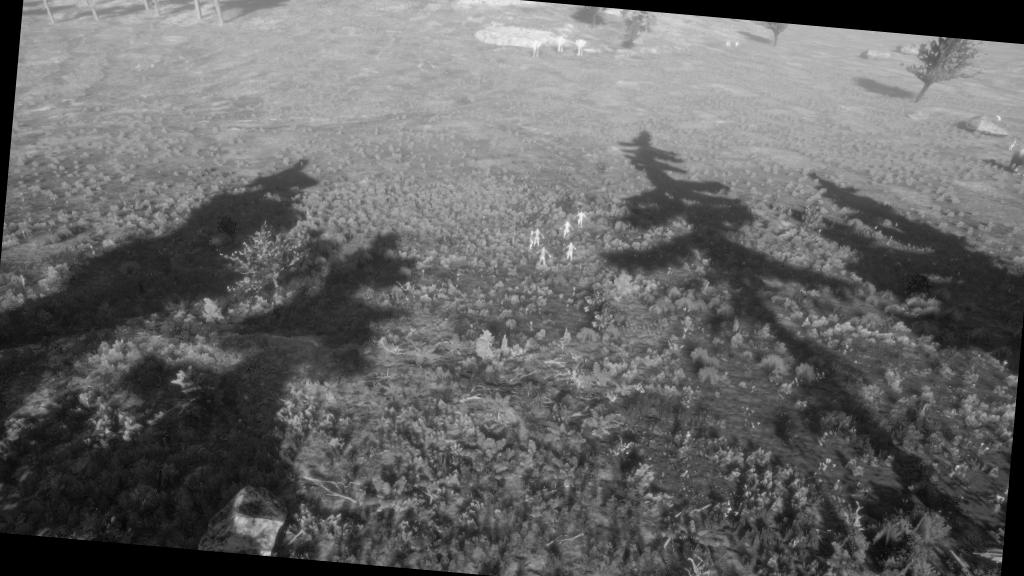elephant: (524, 23, 550, 65), (567, 34, 600, 65), (549, 26, 573, 64)
human: (508, 185, 602, 304)
